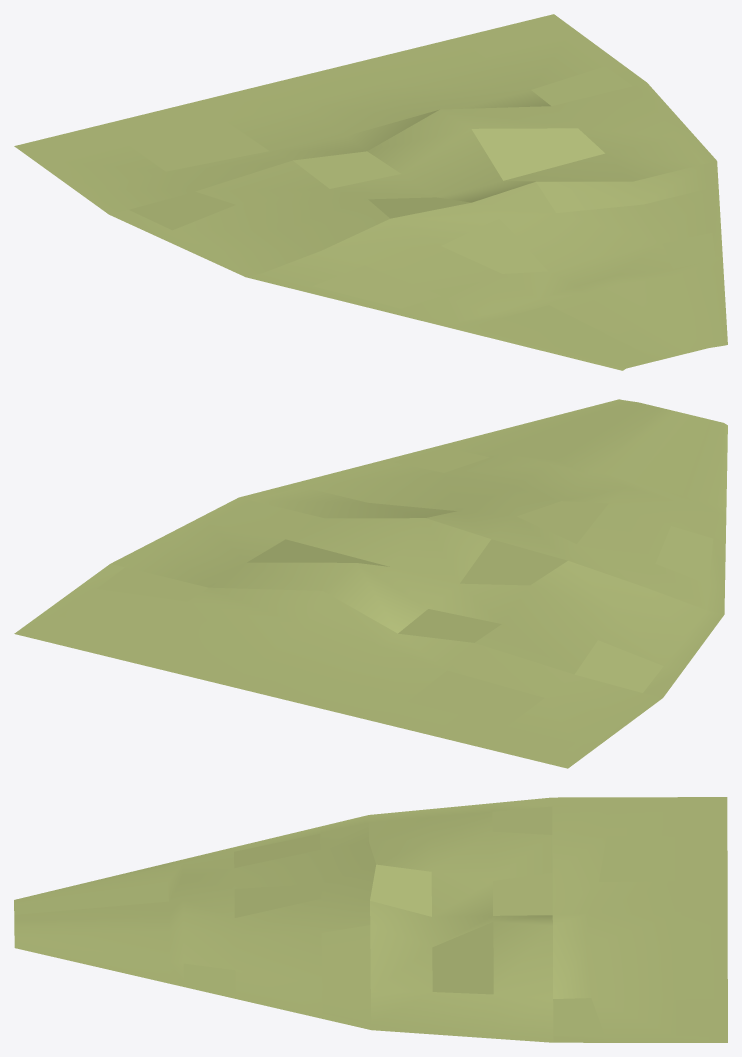
The model's file is grassTest_01.fbx.
The picture shows the model from 3 angles, top to bottom: view 1: azimuth 30°, elevation 25°; view 2: azimuth 150°, elevation 25°; view 3: azimuth 270°, elevation 25°; orthographic projection. The views are drawn at different scales.
Visible parts, largest first — view 1: polySurface5; view 2: polySurface5; view 3: polySurface5.
Boxes of the visible parts, x1,y1,x2,y2 form: polySurface5: (14, 14, 727, 370); polySurface5: (14, 399, 727, 768); polySurface5: (14, 797, 727, 1042).
Size of the model in its own units: 84.34 by 4.29 by 103.
